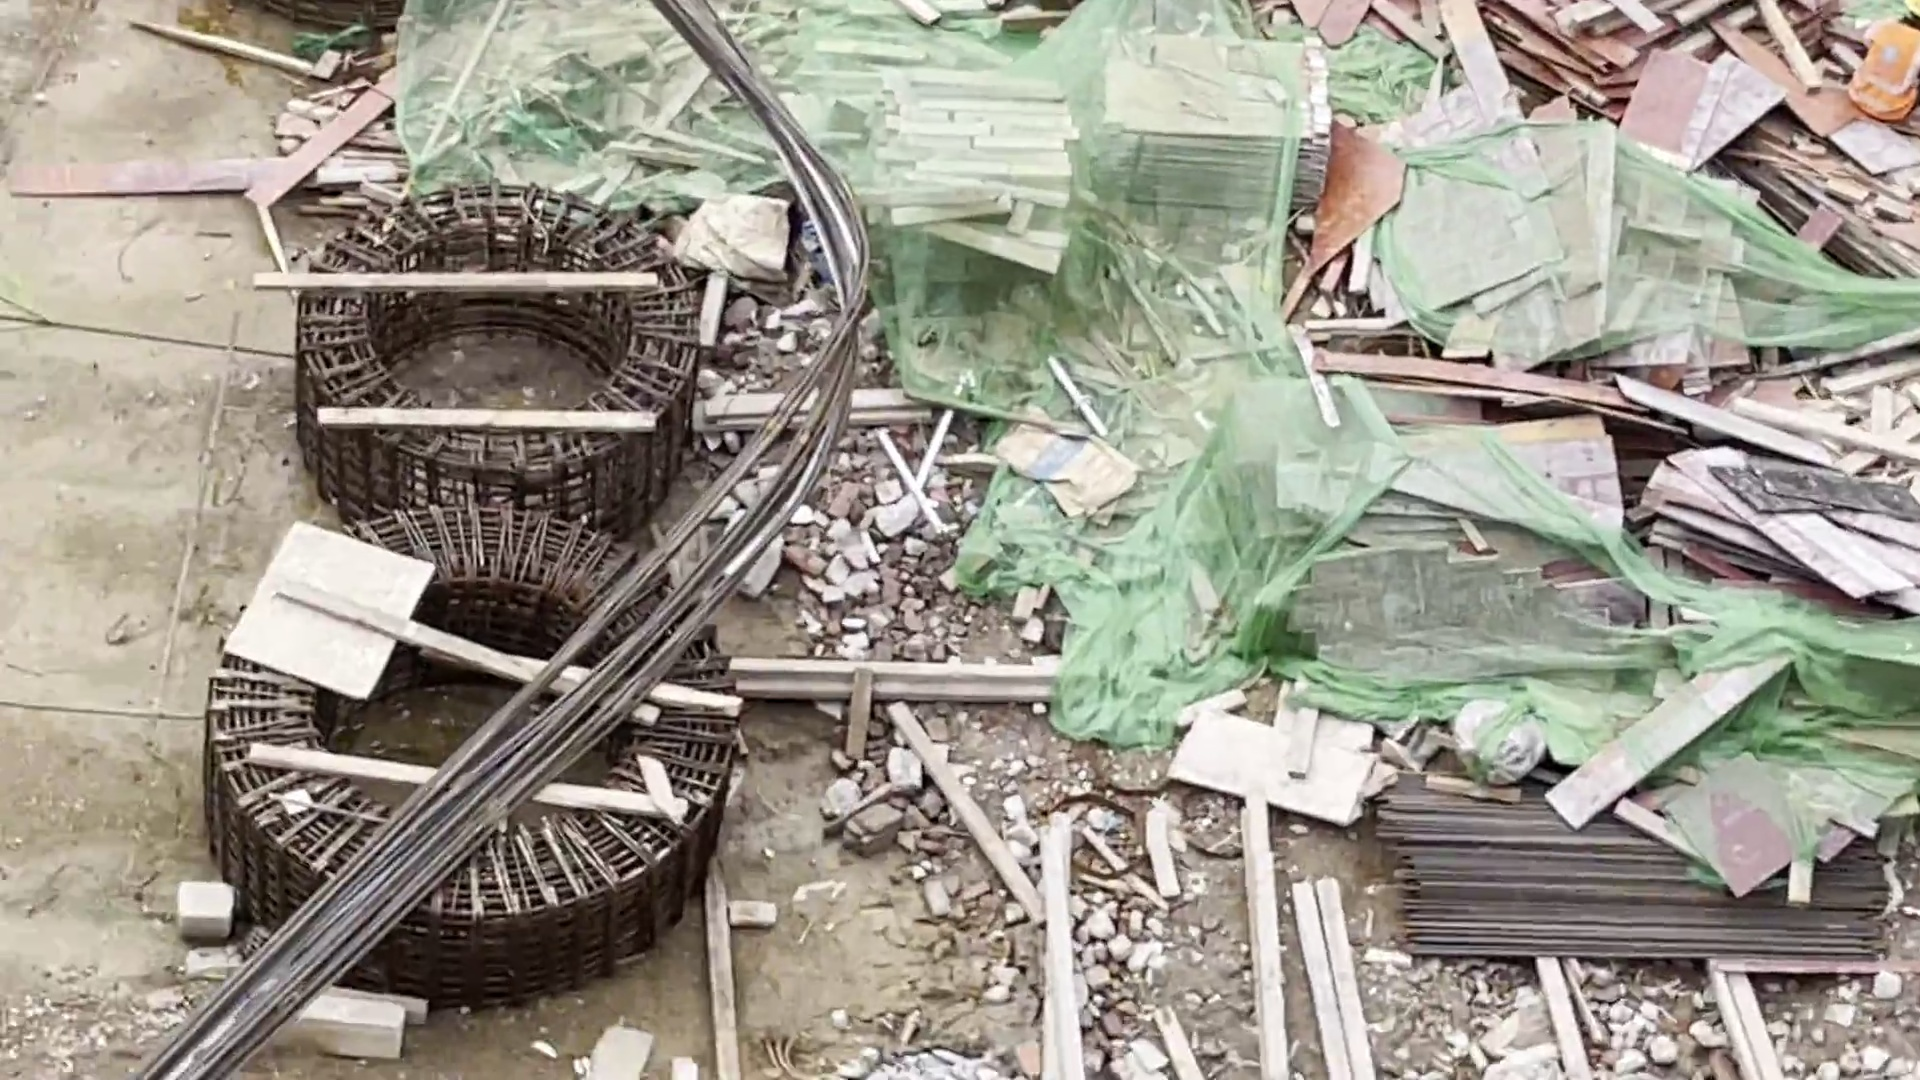person: (1858, 1, 1920, 130)
vest: (1859, 20, 1916, 126)
wood: (866, 39, 1328, 263)
